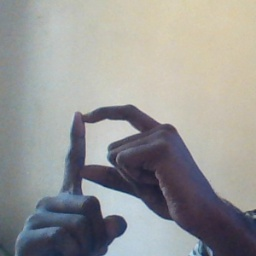D: (49, 99, 179, 232)
